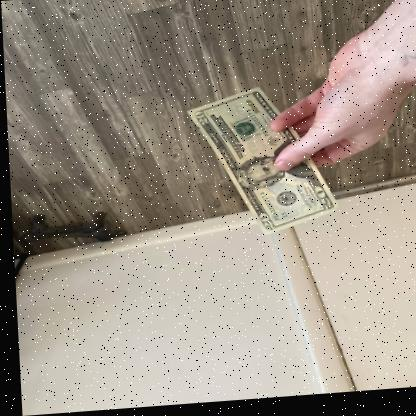twenty-front: (184, 87, 338, 234)
